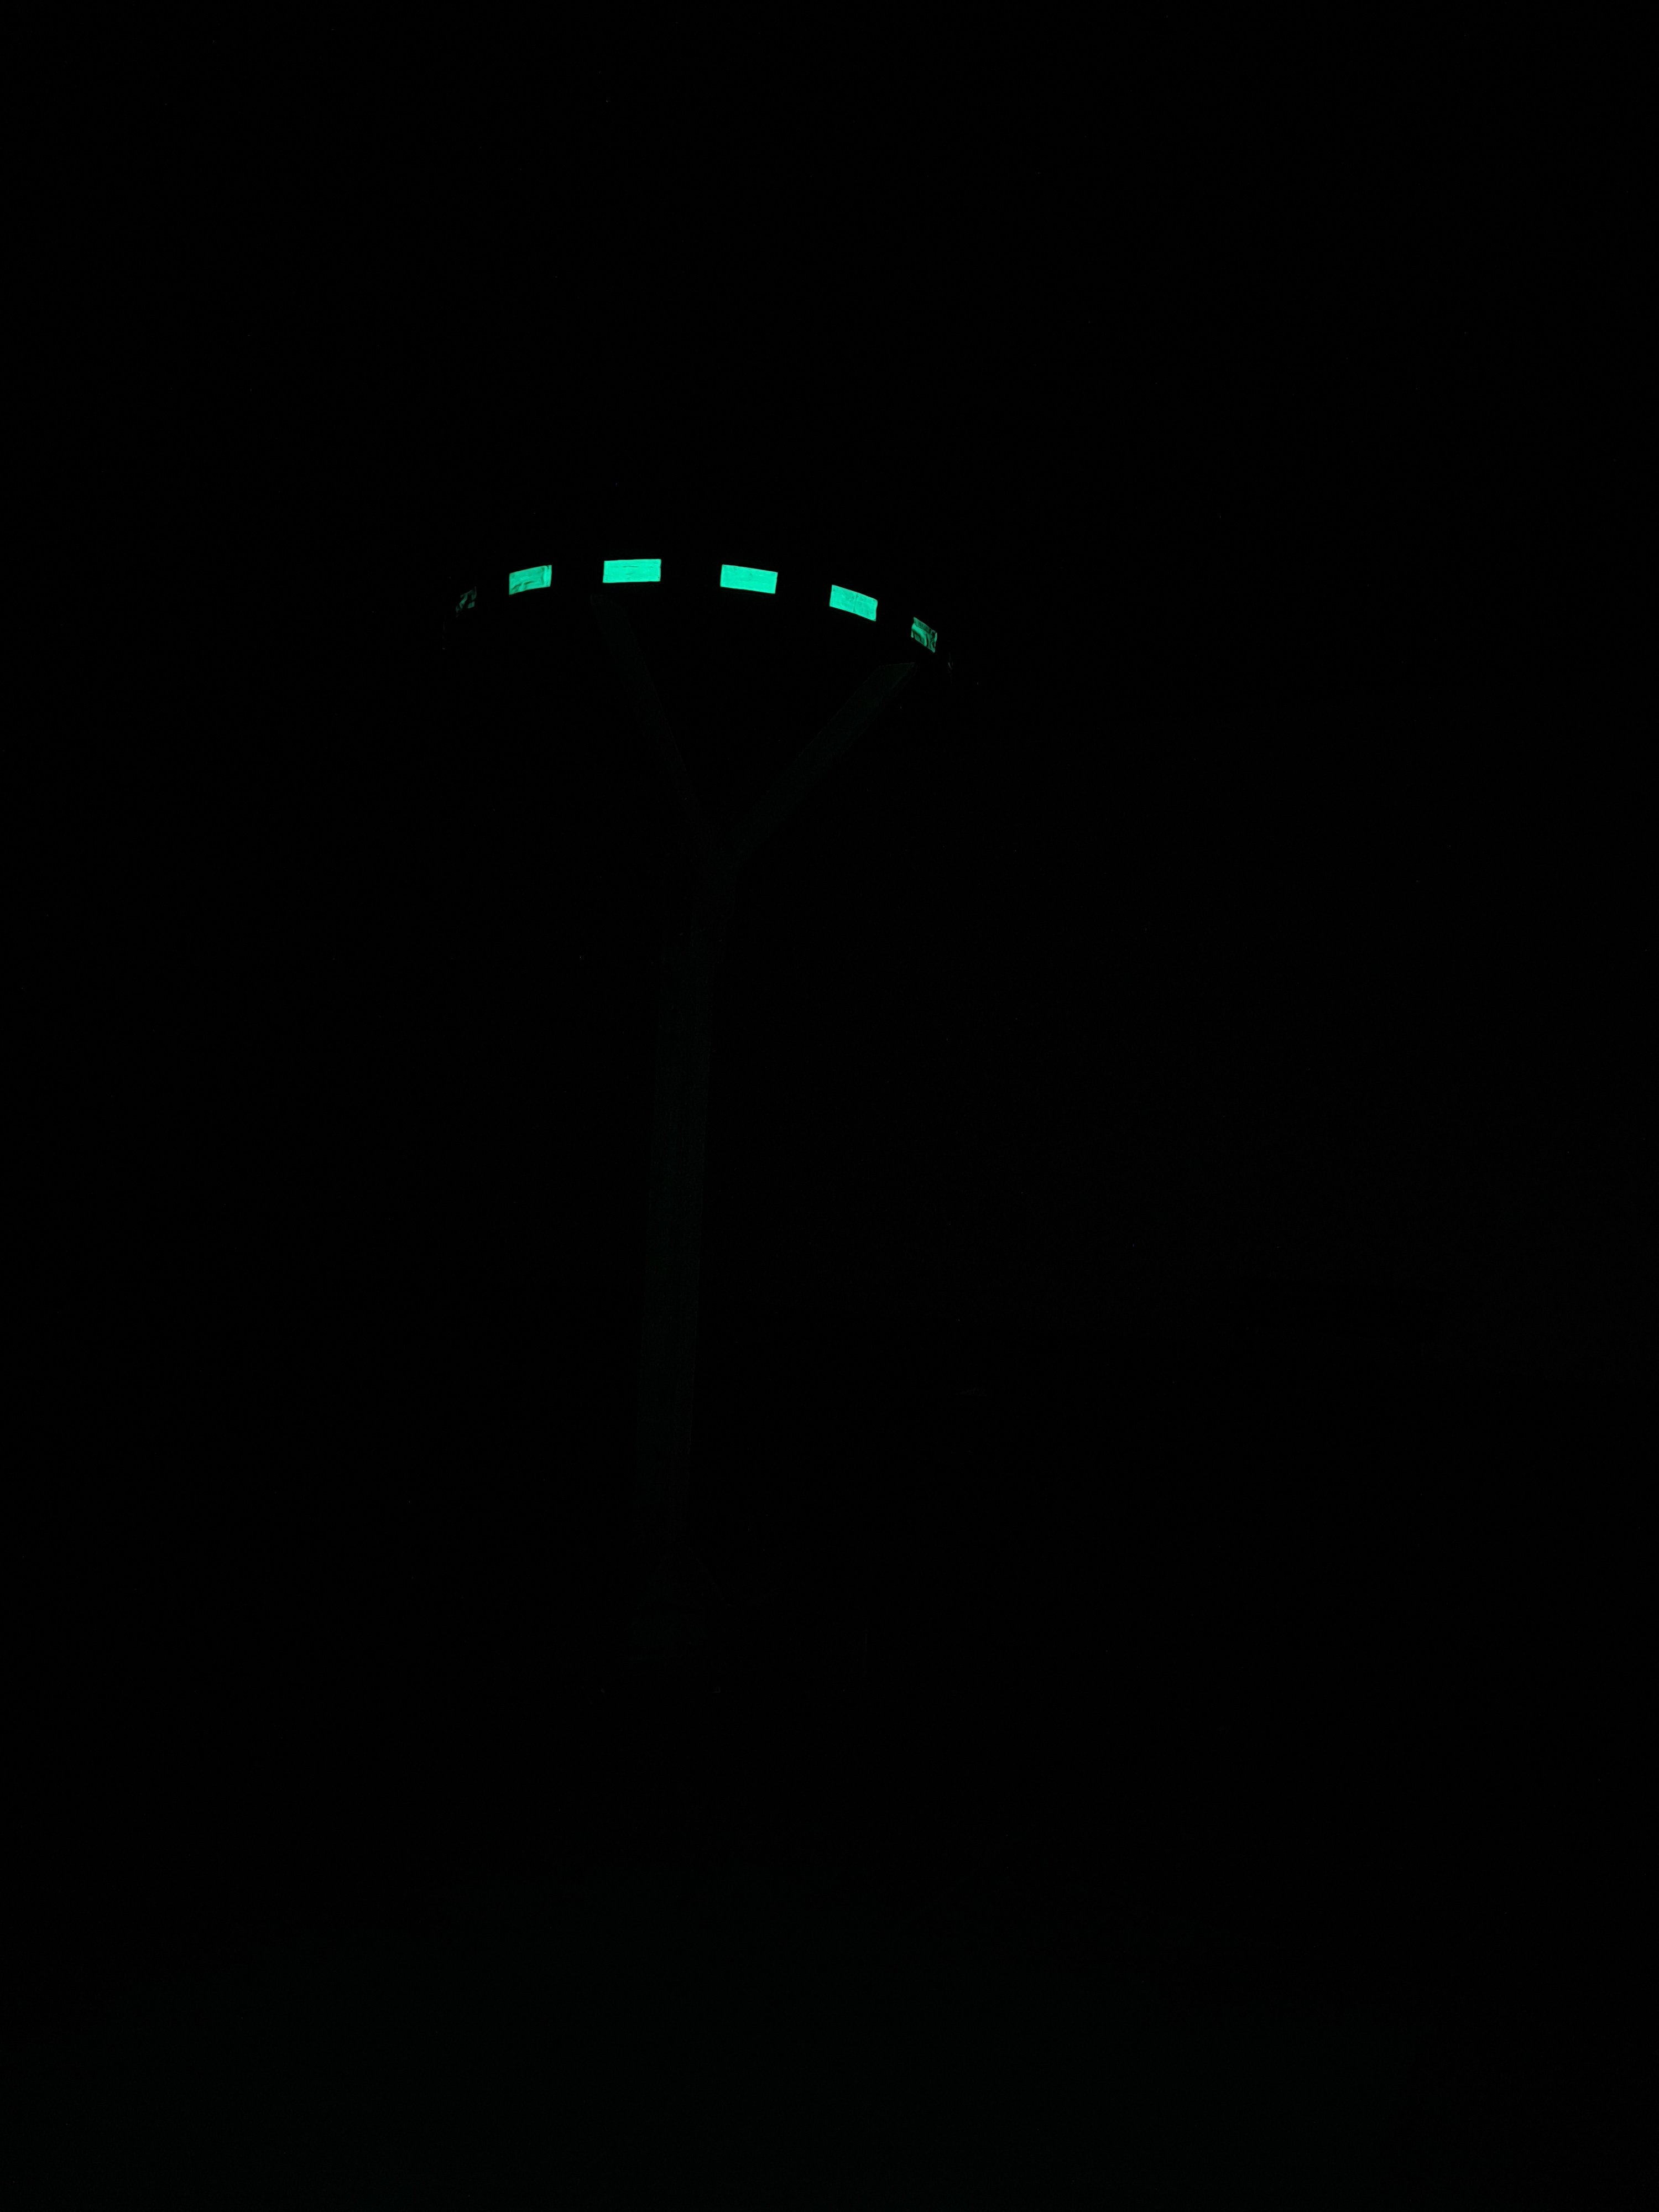hoop: (444, 540, 955, 676)
